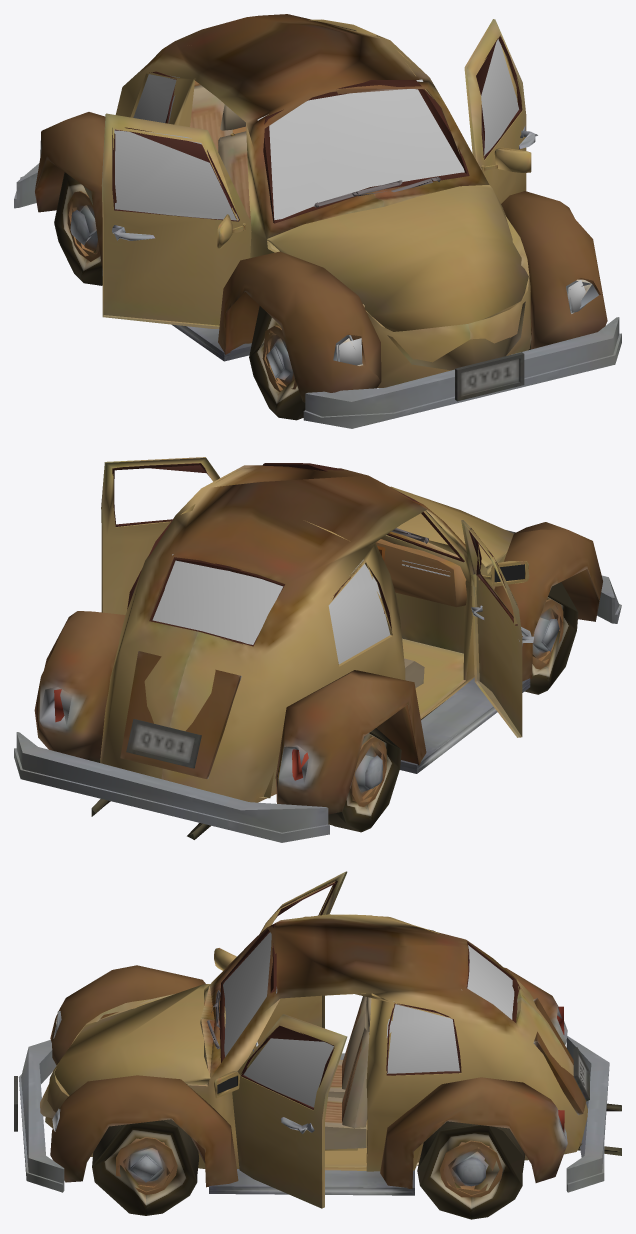
File: Car3.glb
3 renders of one model, top to bottom at view 1: azimuth 30°, elevation 25°; view 2: azimuth 150°, elevation 25°; view 3: azimuth 270°, elevation 25°, orthographic. The views are drawn at different scales.
Visible parts, largest first — view 1: Obj3d66-9723277-3-209, Obj3d66-9723277-4-254, Obj3d66-9723277-11-734, Obj3d66-9723277-17-15, Obj3d66-9723277-2-66, Obj3d66-9723277-42-983; view 2: Obj3d66-9723277-3-209, Obj3d66-9723277-4-254, Obj3d66-9723277-17-15, Obj3d66-9723277-11-734, Obj3d66-9723277-49-481; view 3: Obj3d66-9723277-3-209, Obj3d66-9723277-17-15, Obj3d66-9723277-11-734, Obj3d66-9723277-4-254, Obj3d66-9723277-2-66.
Part boxes in pixels (x1,y1,x2,y2): Obj3d66-9723277-3-209: (14,14,621,428); Obj3d66-9723277-4-254: (114,39,586,365); Obj3d66-9723277-11-734: (218,191,607,402); Obj3d66-9723277-17-15: (54,172,531,420); Obj3d66-9723277-2-66: (190,81,250,221); Obj3d66-9723277-42-983: (314,177,440,207); Obj3d66-9723277-3-209: (14,457,621,842); Obj3d66-9723277-4-254: (152,554,390,664); Obj3d66-9723277-17-15: (92,582,578,832); Obj3d66-9723277-11-734: (494,522,602,681); Obj3d66-9723277-49-481: (375,539,466,607); Obj3d66-9723277-3-209: (14,871,621,1208); Obj3d66-9723277-17-15: (92,1084,525,1219); Obj3d66-9723277-11-734: (50,965,238,1187); Obj3d66-9723277-4-254: (52,923,514,1131); Obj3d66-9723277-2-66: (325,996,371,1150).
Size of the model in its own units: 1.22 by 0.7086 by 1.73.
8 materials, 5 textured.
